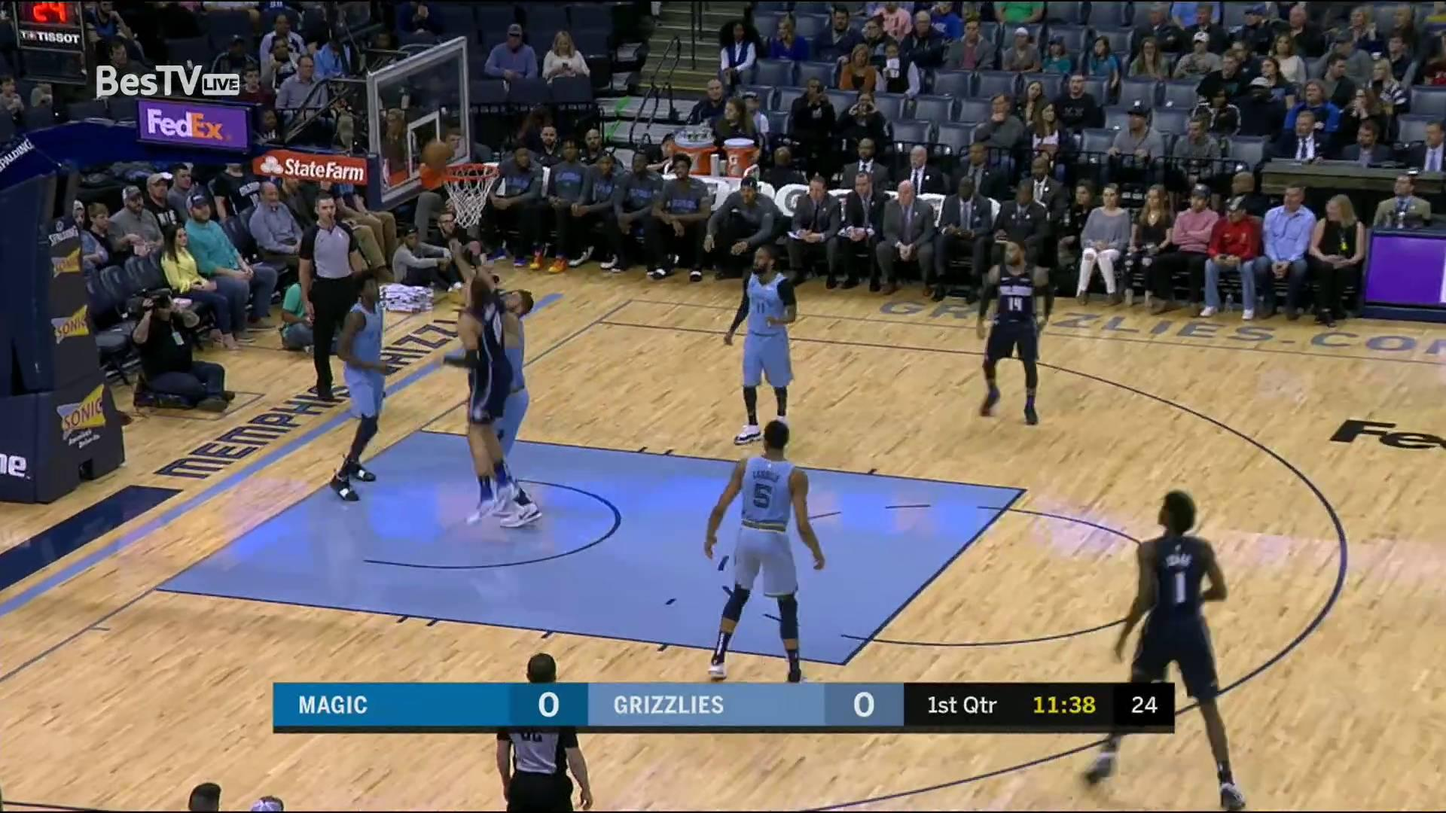basketball: (423, 141, 451, 171)
